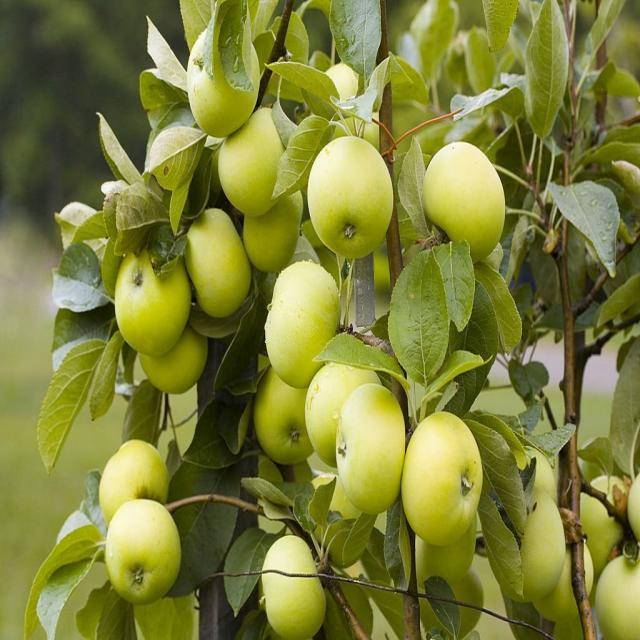Green Apple: (427, 136, 509, 259), (407, 411, 485, 538), (309, 139, 393, 256), (271, 260, 344, 384), (340, 380, 406, 503), (119, 240, 192, 347), (108, 494, 181, 599), (312, 337, 376, 454), (191, 28, 259, 130), (506, 495, 570, 602), (181, 208, 250, 305), (227, 106, 290, 204), (259, 360, 318, 462), (263, 540, 326, 635), (142, 310, 210, 395), (573, 462, 633, 558), (102, 444, 169, 528), (407, 507, 483, 579), (323, 60, 385, 148), (254, 184, 308, 274), (546, 534, 601, 622), (503, 428, 558, 506), (425, 564, 486, 631), (598, 563, 640, 640), (621, 473, 640, 534)
